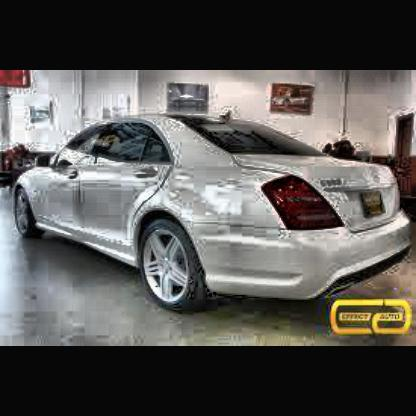Mercedes-Benz S-Class Sedan 2012: (14, 111, 416, 307)
